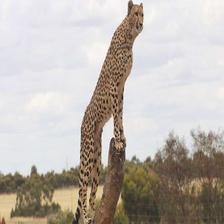Cheetah: (68, 0, 151, 223)
